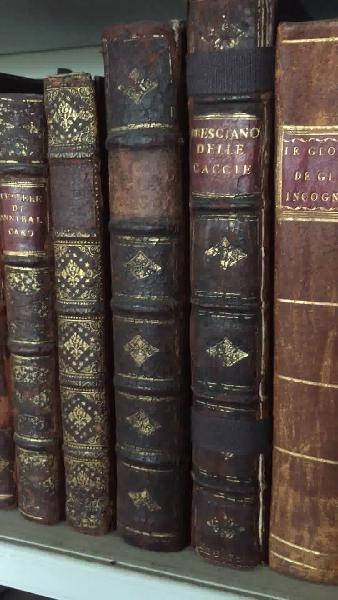Aa6-29: (3, 91, 60, 521)
Aa6-30: (39, 73, 121, 540)
Aa6-31: (96, 26, 185, 554)
Aa6-32: (183, 2, 279, 571)
Aa6-33: (268, 15, 338, 582)
